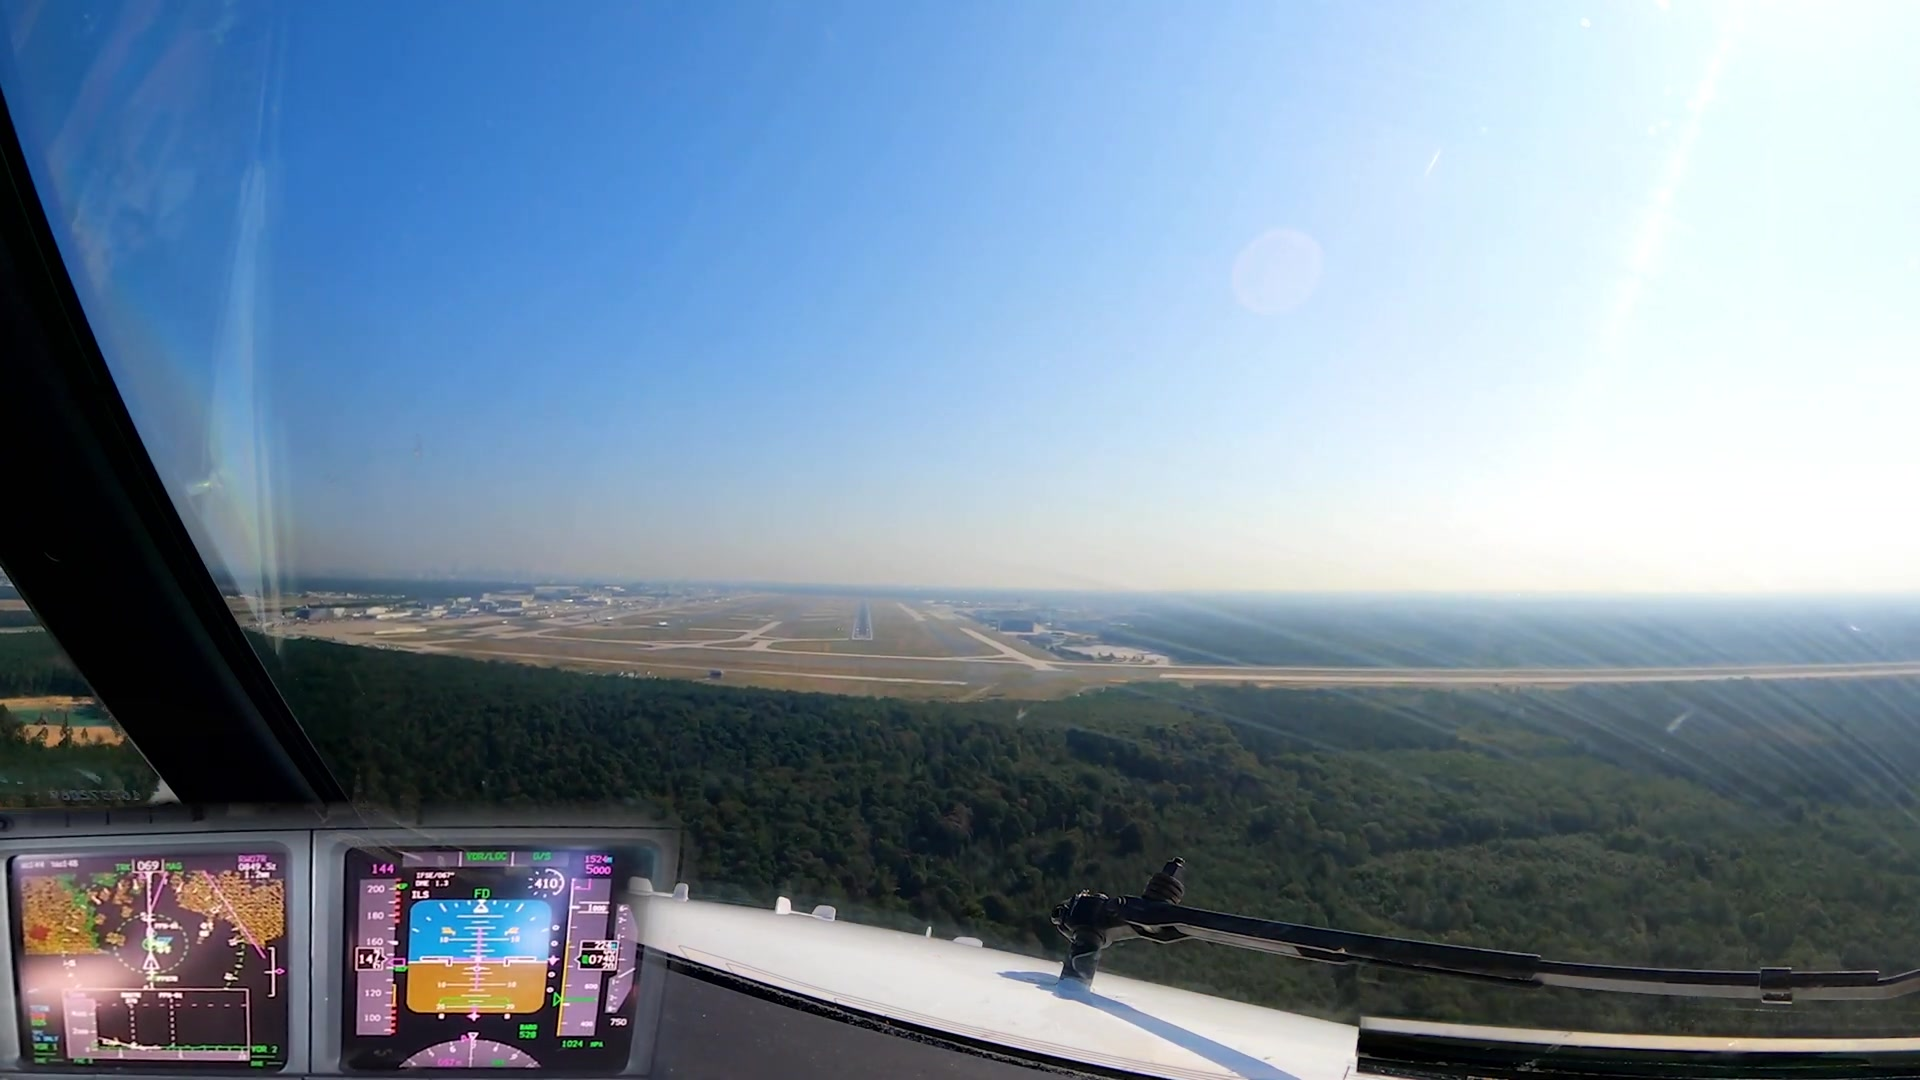runway: (851, 597, 873, 642)
